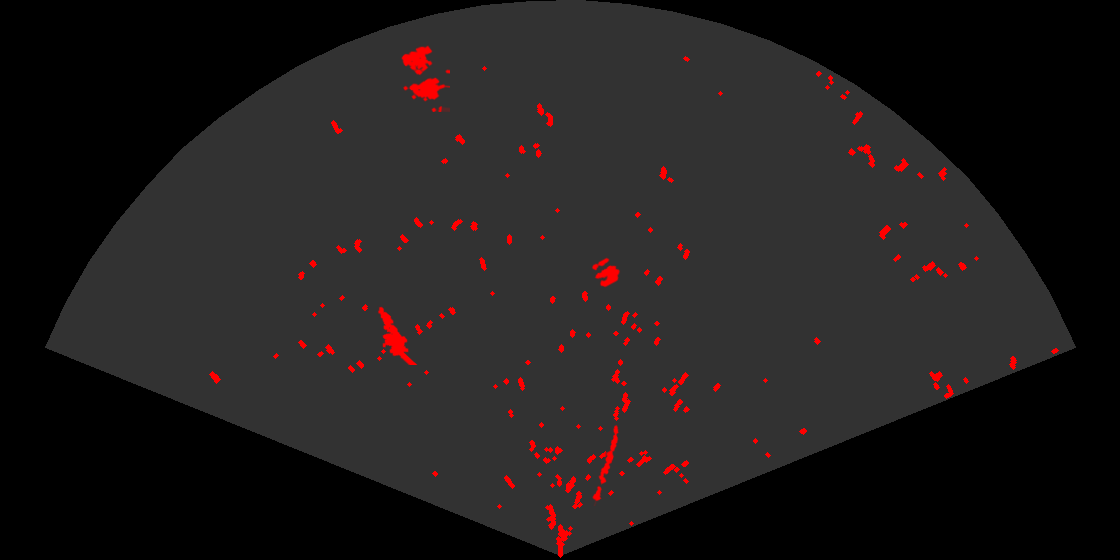ball: (590, 256, 622, 289)
cage: (400, 44, 450, 112)
chain: (591, 423, 620, 506)
frogman: (376, 305, 419, 365)
